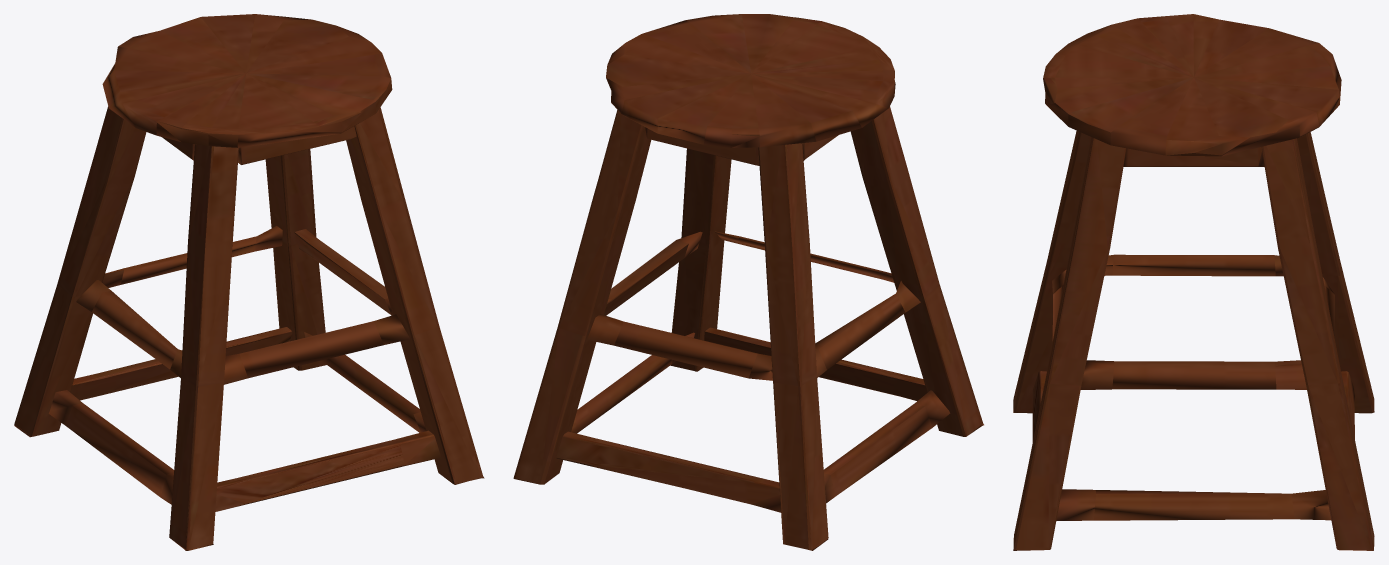
File: stool.lod1.glb
The picture shows the model from 3 angles, left to right: view 1: azimuth 30°, elevation 25°; view 2: azimuth 150°, elevation 25°; view 3: azimuth 270°, elevation 25°; orthographic projection. The views are drawn at different scales.
Bounding box in the file's own units: 0.3797 × 0.46 × 0.38.
Materials: 1 (1 with a texture image).
